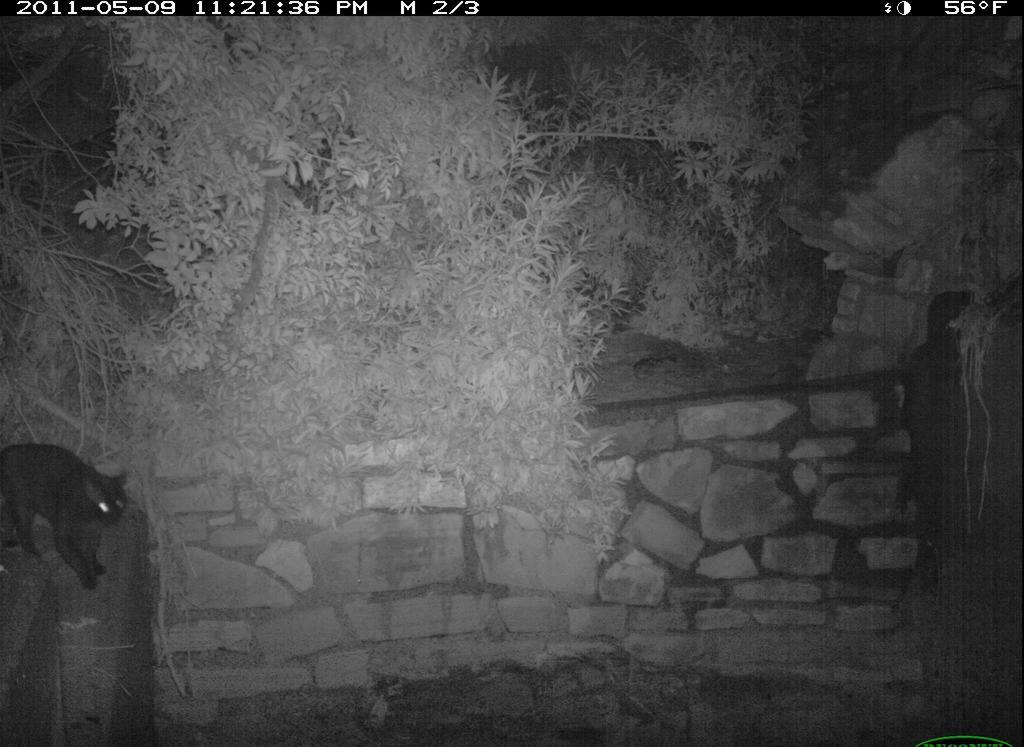cat: (1, 419, 154, 583)
